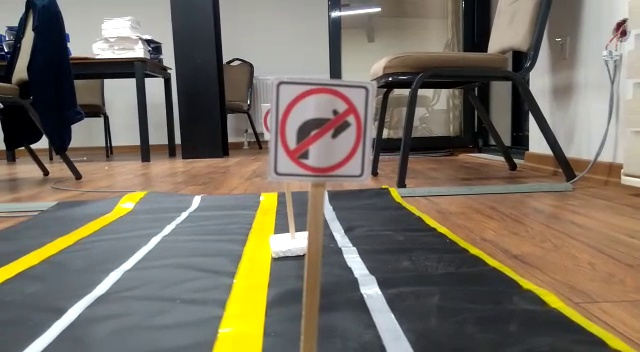saga_donulmez: (274, 84, 369, 178)
